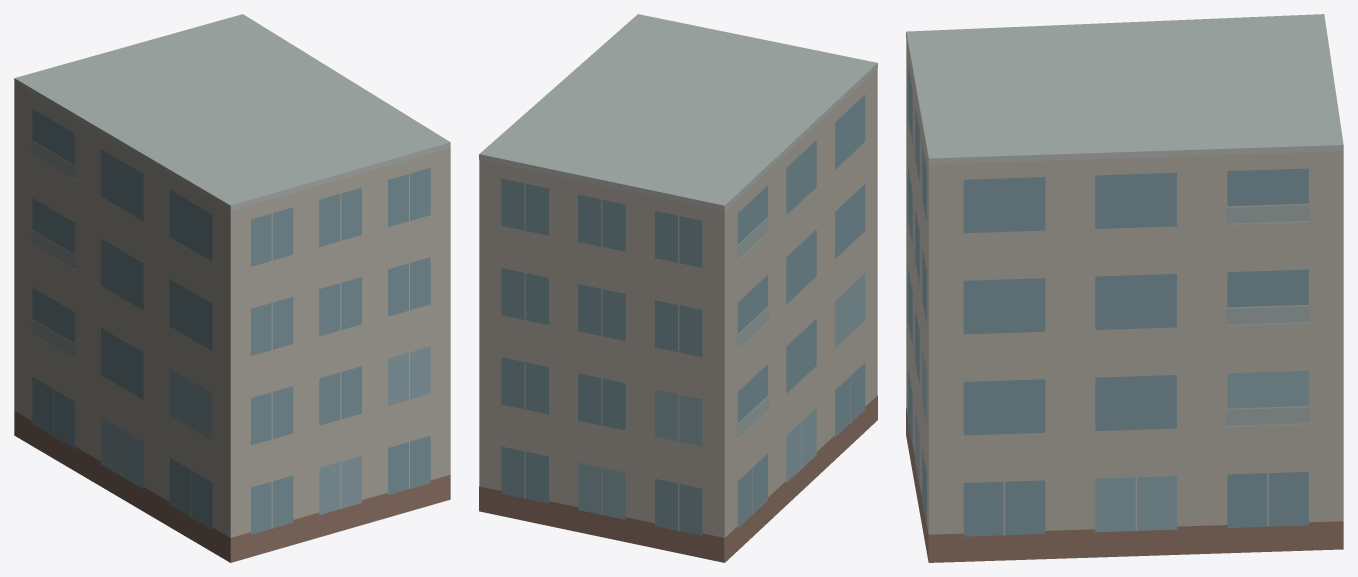
The model's file is survey-upis-32734998.glb.
3 renders of one model, left to right at view 1: azimuth 30°, elevation 25°; view 2: azimuth 150°, elevation 25°; view 3: azimuth 270°, elevation 25°, orthographic. The views are drawn at different scales.
Visible parts, largest first — view 1: survey-upis-32734998.tmp; view 2: survey-upis-32734998.tmp; view 3: survey-upis-32734998.tmp.
Part boxes in pixels (x1,y1,x2,y2): survey-upis-32734998.tmp: (14,14,450,562); survey-upis-32734998.tmp: (479,14,877,562); survey-upis-32734998.tmp: (906,14,1343,562).
Bounding box in the file's own units: 12.34 × 16.1 × 15.79.
